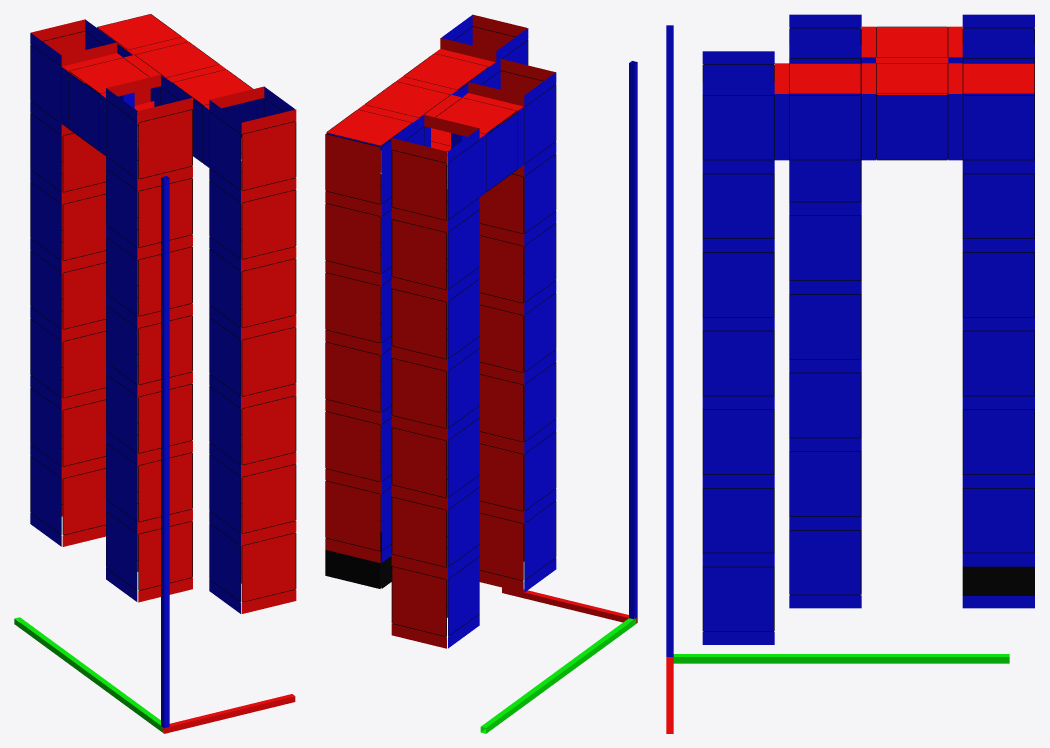
3 renders of one model, left to right at view 1: azimuth 30°, elevation 25°; view 2: azimuth 150°, elevation 25°; view 3: azimuth 270°, elevation 25°, orthographic. The views are drawn at different scales.
Visible parts, largest first — view 1: axisK:-J, spider(1, 0, 6):-J, spider(1, 0, 7):-J, spider(1, 0, 1):-J, spider(1, 0, 3):-J, spider(1, 0, 4):-J, spider(1, 0, 5):-J, spider(1, 0, 2):-J, spider(0, 1, 7):-J, spider(0, 1, 6):-J, spider(0, 1, 3):-J, spider(0, 1, 5):-J (+69 smaller); view 2: axisK:+J, spider(0, 3, 2):+J, spider(1, 3, 3):+J, spider(1, 3, 7):+J, spider(0, 3, 4):+J, spider(0, 3, 5):+J, spider(0, 3, 7):+J, spider(1, 3, 2):+J, spider(1, 3, 4):+J, spider(1, 3, 5):+J, spider(1, 3, 6):+J, spider(0, 3, 1):+J (+66 smaller); view 3: axisK:+I, spider(0, 1, 3):+I, spider(1, 0, 4):+I, spider(1, 3, 4):+I, spider(0, 1, 1):+I, spider(0, 1, 4):+I, spider(0, 1, 5):+I, spider(1, 1, 7):+I, spider(1, 3, 3):+I, spider(1, 3, 5):+I, spider(1, 0, 1):+I, spider(1, 0, 2):+I (+48 smaller).
Part boxes in pixels (x1=…): axisK:-J: x1=164, y1=178, x2=169, y2=727; spider(1, 0, 6):-J: x1=241, y1=189, x2=296, y2=259; spider(1, 0, 7):-J: x1=241, y1=121, x2=296, y2=190; spider(1, 0, 1):-J: x1=241, y1=532, x2=296, y2=602; spider(1, 0, 3):-J: x1=241, y1=395, x2=296, y2=465; spider(1, 0, 4):-J: x1=241, y1=327, x2=296, y2=396; spider(1, 0, 5):-J: x1=241, y1=258, x2=296, y2=328; spider(1, 0, 2):-J: x1=241, y1=464, x2=296, y2=533; spider(0, 1, 7):-J: x1=138, y1=109, x2=192, y2=179; spider(0, 1, 6):-J: x1=138, y1=178, x2=192, y2=247; spider(0, 1, 3):-J: x1=138, y1=383, x2=192, y2=453; spider(0, 1, 5):-J: x1=138, y1=246, x2=192, y2=316; axisK:+J: x1=629, y1=63, x2=634, y2=619; spider(0, 3, 2):+J: x1=391, y1=496, x2=446, y2=567; spider(1, 3, 3):+J: x1=325, y1=411, x2=380, y2=481; spider(1, 3, 7):+J: x1=325, y1=133, x2=380, y2=204; spider(0, 3, 4):+J: x1=391, y1=358, x2=446, y2=428; spider(0, 3, 5):+J: x1=391, y1=288, x2=446, y2=359; spider(0, 3, 7):+J: x1=391, y1=150, x2=446, y2=220; spider(1, 3, 2):+J: x1=325, y1=480, x2=380, y2=551; spider(1, 3, 4):+J: x1=325, y1=342, x2=380, y2=412; spider(1, 3, 5):+J: x1=325, y1=272, x2=380, y2=343; spider(1, 3, 6):+J: x1=325, y1=203, x2=380, y2=273; spider(0, 3, 1):+J: x1=391, y1=566, x2=446, y2=636; axisK:+I: x1=666, y1=28, x2=673, y2=656; spider(0, 1, 3):+I: x1=789, y1=372, x2=861, y2=438; spider(1, 0, 4):+I: x1=702, y1=330, x2=774, y2=396; spider(1, 3, 4):+I: x1=962, y1=330, x2=1034, y2=396; spider(0, 1, 1):+I: x1=789, y1=530, x2=861, y2=595; spider(0, 1, 4):+I: x1=789, y1=294, x2=861, y2=359; spider(0, 1, 5):+I: x1=789, y1=215, x2=861, y2=280; spider(1, 1, 7):+I: x1=789, y1=95, x2=861, y2=160; spider(1, 3, 3):+I: x1=962, y1=409, x2=1034, y2=474; spider(1, 3, 5):+I: x1=962, y1=252, x2=1034, y2=317; spider(1, 0, 1):+I: x1=702, y1=566, x2=774, y2=631; spider(1, 0, 2):+I: x1=702, y1=488, x2=774, y2=553.
Size of the model in its own units: 2.71 by 10.1 by 5.11.
